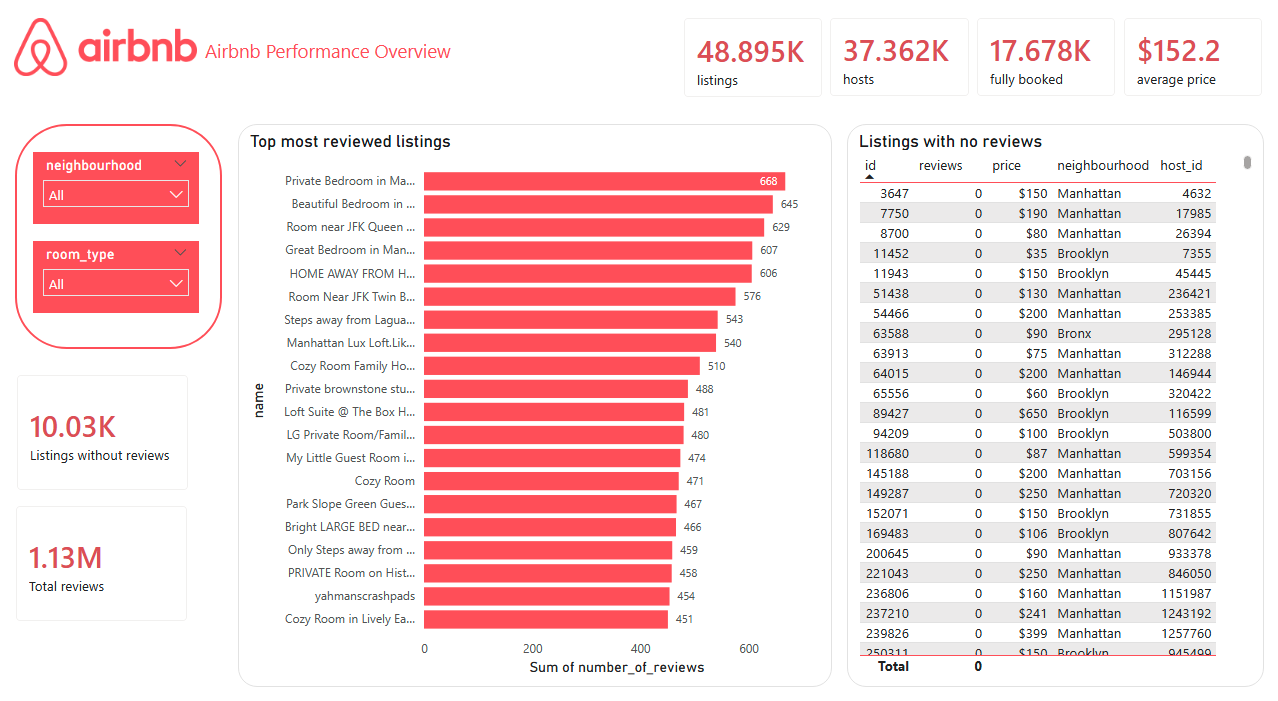

The page's visual inventory and layout, read from the dashboard file:
{"tool":"powerbi","page":{"name":"Demand / Reviews","canvas":[1280,720],"ordinal":1},"visuals":[{"type":"shape","box":[16.1,125,206.7,224.9],"z":0},{"type":"cardVisual","fields":{"Data":["CountNonNull(AB_NYC_2019.id)"]},"box":[667.9,1.6,172.4,112.9],"z":1000},{"type":"cardVisual","fields":{"Data":["Count(AB_NYC_2019.host_id)"]},"box":[814.4,2.1,172.4,111.9],"z":2000},{"type":"textbox","box":[200.7,34.3,260.2,40.3],"z":3000},{"type":"slicer","fields":{"Values":["AB_NYC_2019.neighbourhood_group"]},"box":[34.3,153.3,165.4,71.6],"z":4000},{"type":"cardVisual","fields":{"Data":["CountNonNull(AB_NYC_2019.id)"]},"box":[961,2.1,172.4,111.9],"z":6000},{"type":"slicer","fields":{"Values":["AB_NYC_2019.room_type"]},"box":[34.3,242,165.4,71.6],"z":7000},{"type":"tableEx","title":"Listings with no reviews","fields":{"Values":["AB_NYC_2019.id","Sum(AB_NYC_2019.number_of_reviews)","AB_NYC_2019.price","AB_NYC_2019.neighbourhood_group","AB_NYC_2019.host_id"]},"box":[848.1,125,416.5,562.7],"z":8000},{"type":"cardVisual","fields":{"Data":["CountNonNull(AB_NYC_2019.number_of_reviews)"]},"box":[1,359,204.7,149.2],"z":9000},{"type":"clusteredBarChart","title":"Top most reviewed listings","fields":{"Category":["AB_NYC_2019.name"],"Y":["Sum(AB_NYC_2019.number_of_reviews)"]},"box":[239,125,593.9,562.7],"z":10000},{"type":"cardVisual","fields":{"Data":["Sum(AB_NYC_2019.number_of_reviews)"]},"box":[0,490.1,204.7,149.2],"z":11000},{"type":"cardVisual","fields":{"Data":["Avg(AB_NYC_2019.price)"]},"box":[1107.6,2.1,172.4,111.9],"z":12000},{"type":"image","box":[15.1,9.1,182.5,77.6],"z":12001}]}

Visuals, with their boxes in screenshot pixels (x1, y1, x2, y2), scaled from the page's 1280x720 canvas onto the 1278x701 screenshot:
shape: (16,122,222,341)
cardVisual - CountNonNull(AB_NYC_2019.id): (667,2,839,111)
cardVisual - Count(AB_NYC_2019.host_id): (813,2,985,111)
textbox: (200,33,460,73)
slicer - AB_NYC_2019.neighbourhood_group: (34,149,199,219)
cardVisual - CountNonNull(AB_NYC_2019.id): (959,2,1132,111)
slicer - AB_NYC_2019.room_type: (34,236,199,305)
"Listings with no reviews" tableEx: (847,122,1263,670)
cardVisual - CountNonNull(AB_NYC_2019.number_of_reviews): (1,350,205,495)
"Top most reviewed listings" clusteredBarChart: (239,122,832,670)
cardVisual - Sum(AB_NYC_2019.number_of_reviews): (0,477,204,622)
cardVisual - Avg(AB_NYC_2019.price): (1106,2,1277,111)
image: (15,9,197,84)
